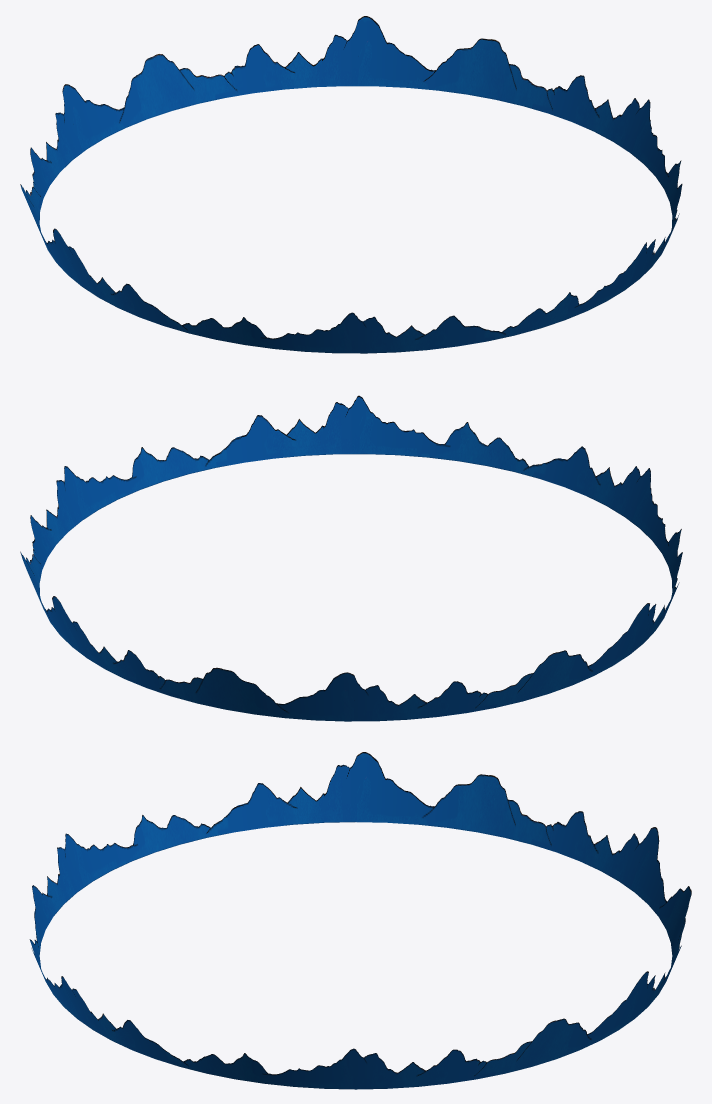
The model's file is Mountain Ring.fbx.
3 renders of one model, top to bottom at view 1: azimuth 30°, elevation 25°; view 2: azimuth 150°, elevation 25°; view 3: azimuth 270°, elevation 25°, orthographic.
Visible parts, largest first — view 1: MountainRing; view 2: MountainRing; view 3: MountainRing.
Boxes of the visible parts, x1,y1,x2,y2 form: MountainRing: (20, 16, 682, 353); MountainRing: (20, 395, 682, 721); MountainRing: (29, 752, 691, 1089).
Bounding box in the file's own units: 403 × 403 × 39.55.
